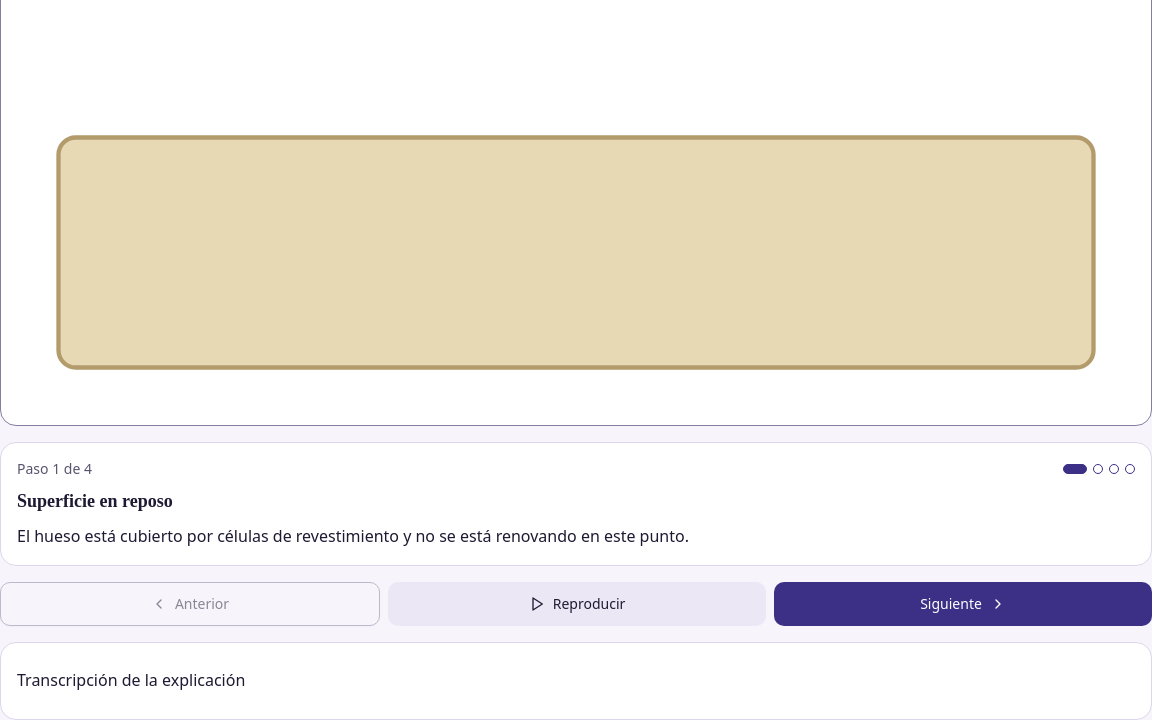
Scenario: animación: reproducción automática › reproducir estando en el último paso vuelve al primero
The image size is (1152, 720).
(page scrolled)
Click the button with test id "siguiente" at (963, 604), box [774,582,1151,626]
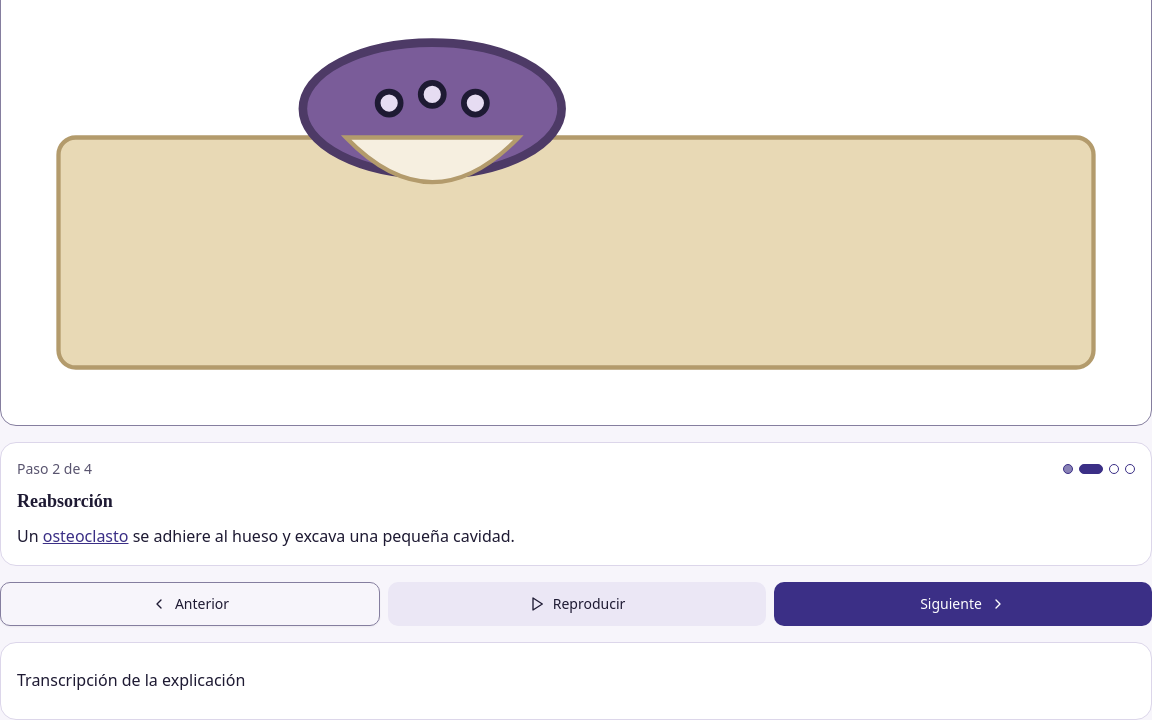
Click the button with test id "siguiente" at (963, 604), box [774,582,1151,626]
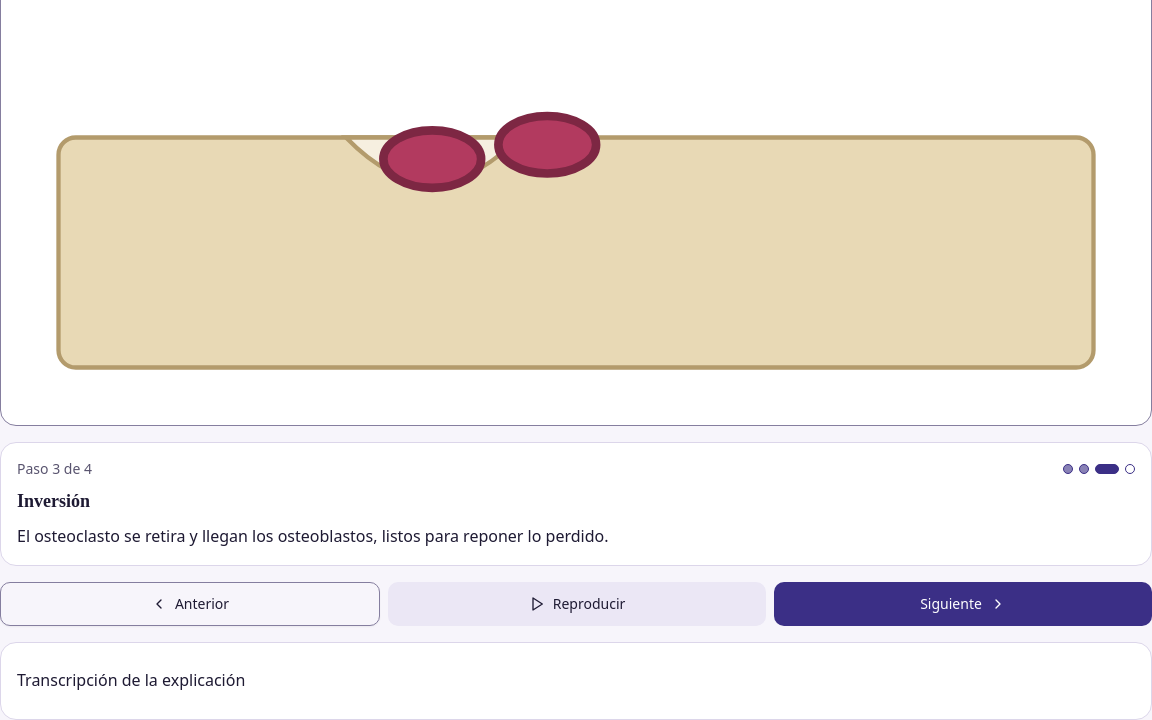
Click the button with test id "siguiente" at (963, 604), box [774,582,1151,626]
(page scrolled)
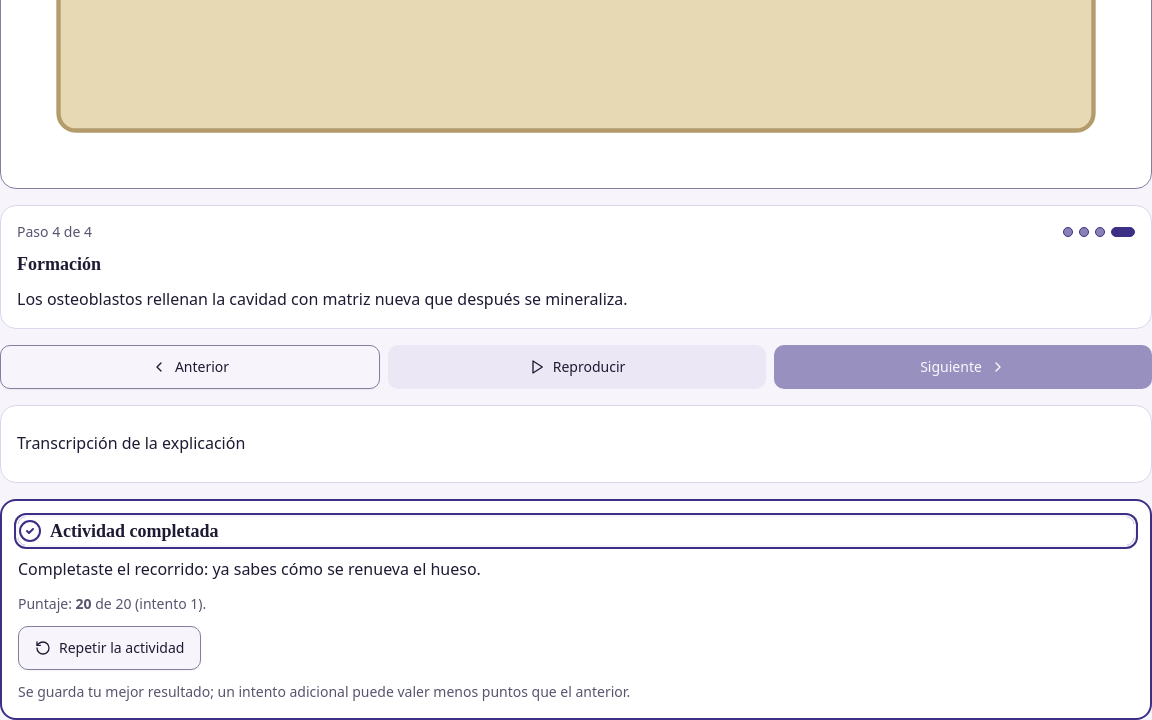
Click the button with test id "reproducir" at (577, 367), box [388,345,766,389]
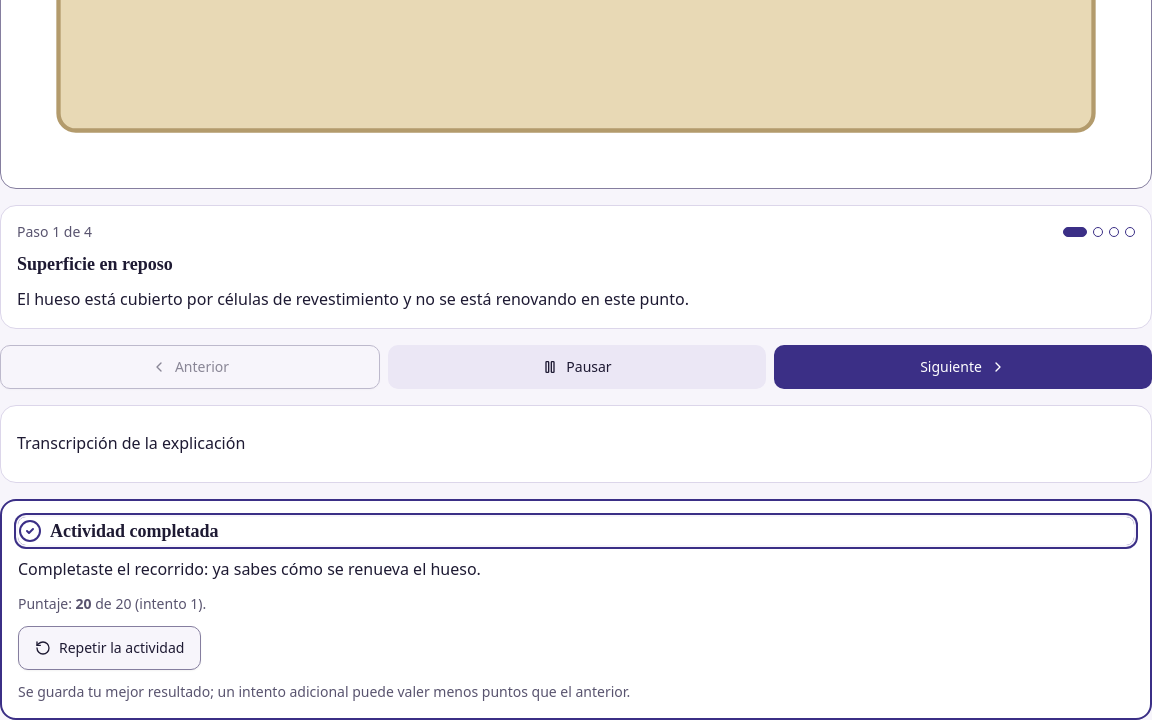
Expected: the text with test id "contador-paso" reads "Paso 1 de 4", [17,222,92,241]
